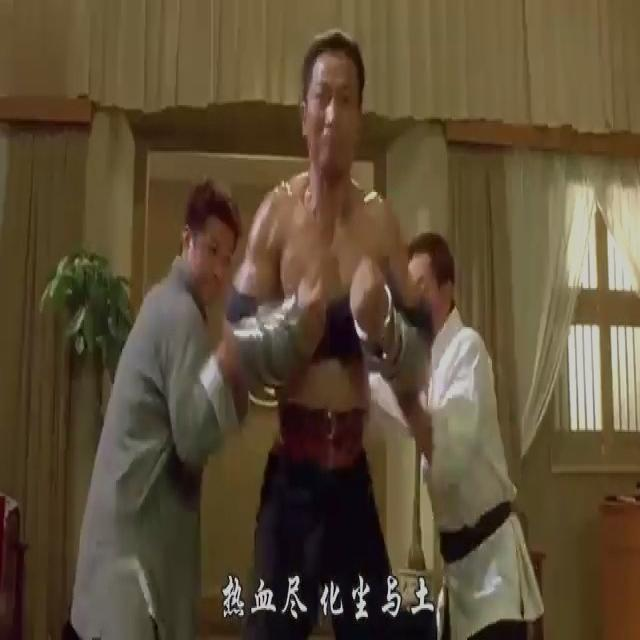fight: (65, 35, 545, 638)
